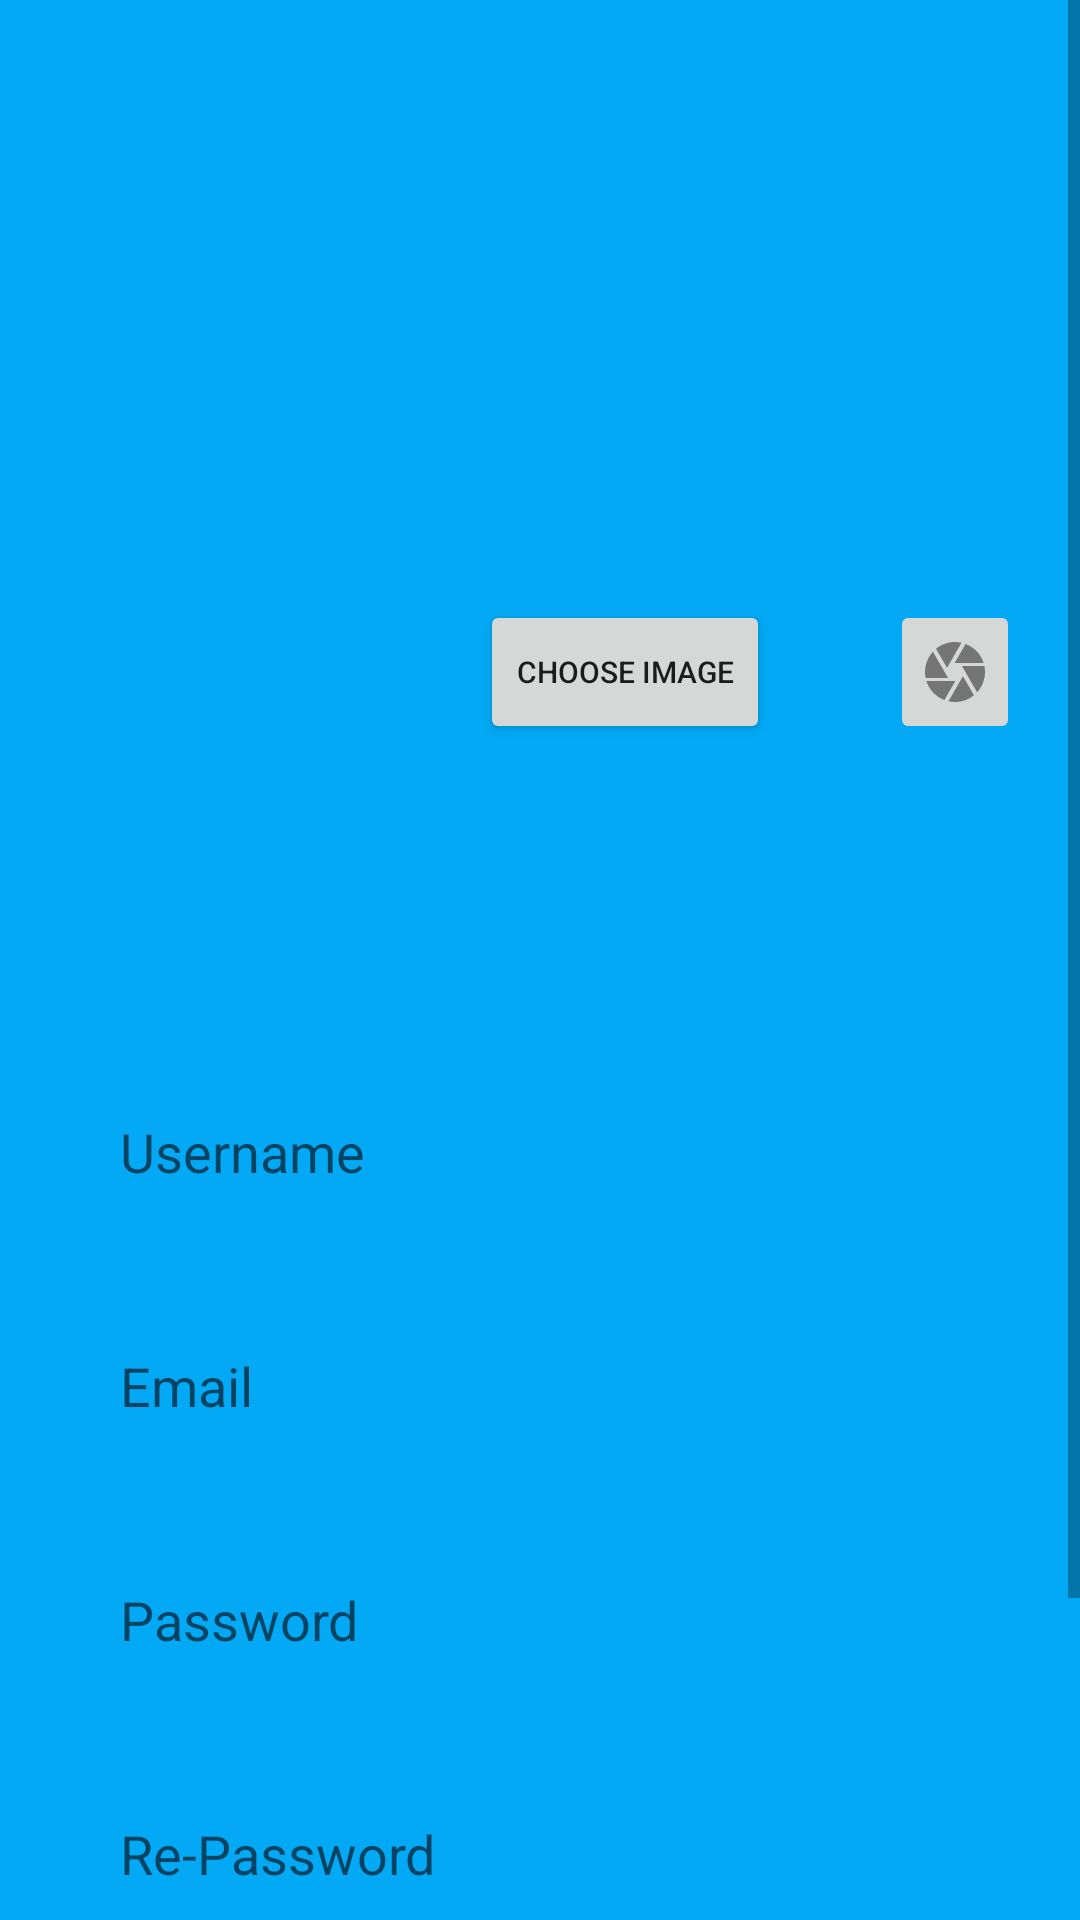

Screen size 1080 × 1920. Icon name, then its box in pixels as (x1, y1, x2, y2):
camera: (902, 618, 1008, 726)
